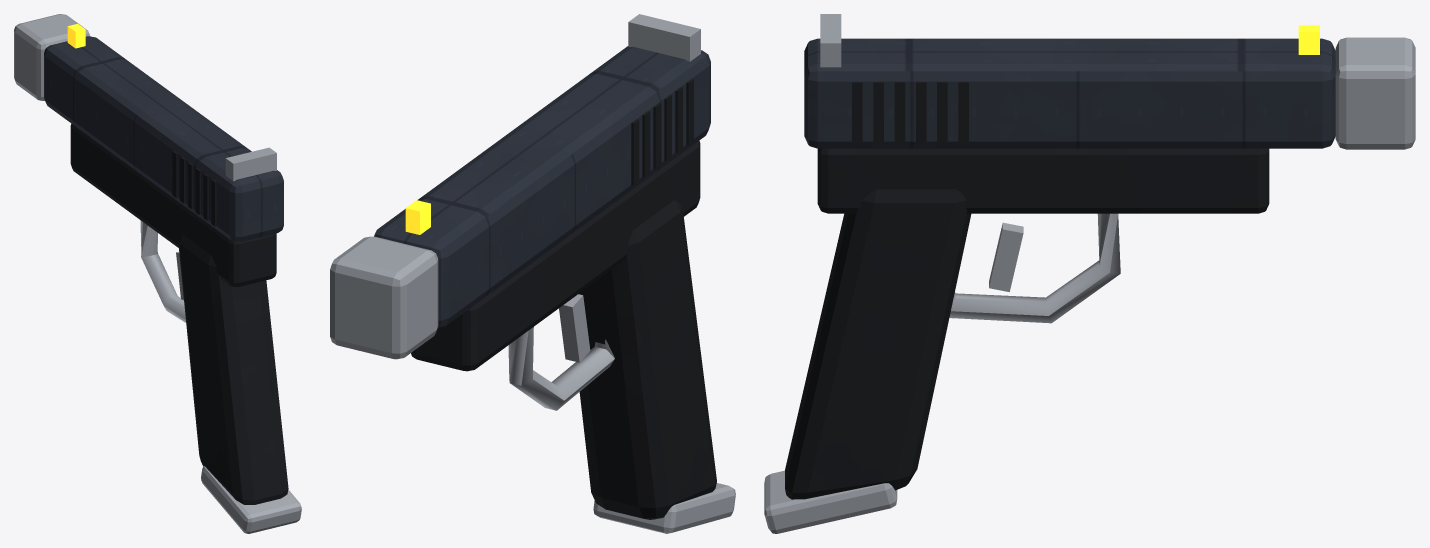
Rendered from weapon_sidekick_pistol.glb.
3 renders of one model, left to right at view 1: azimuth 30°, elevation 25°; view 2: azimuth 150°, elevation 25°; view 3: azimuth 270°, elevation 25°, orthographic. The views are drawn at different scales.
Parts seen in each view (by area): view 1: weapon_sidekick_pistol; view 2: weapon_sidekick_pistol; view 3: weapon_sidekick_pistol.
Part boxes in pixels (x1,y1,x2,y2): weapon_sidekick_pistol: [14, 14, 301, 533]; weapon_sidekick_pistol: [330, 14, 735, 533]; weapon_sidekick_pistol: [764, 14, 1415, 533].
Size of the model in its own units: 0.034 by 0.2031 by 0.245.
Materials: 4 (2 with a texture image).
